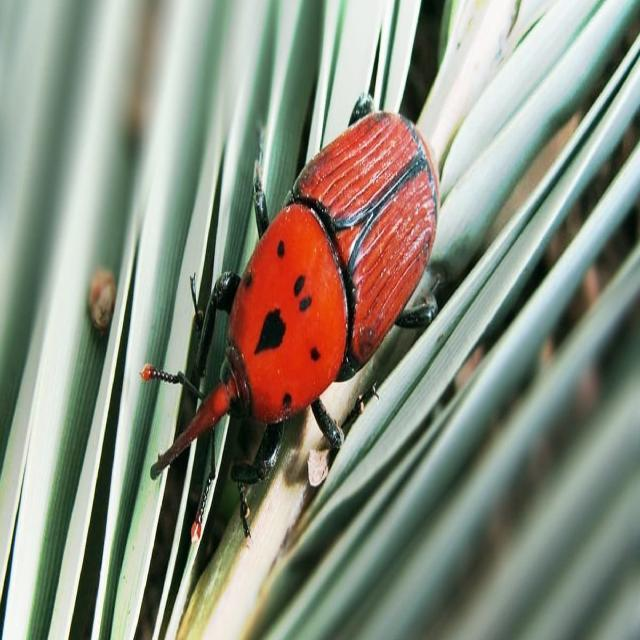Red-palm-weevil: (142, 108, 440, 548)
